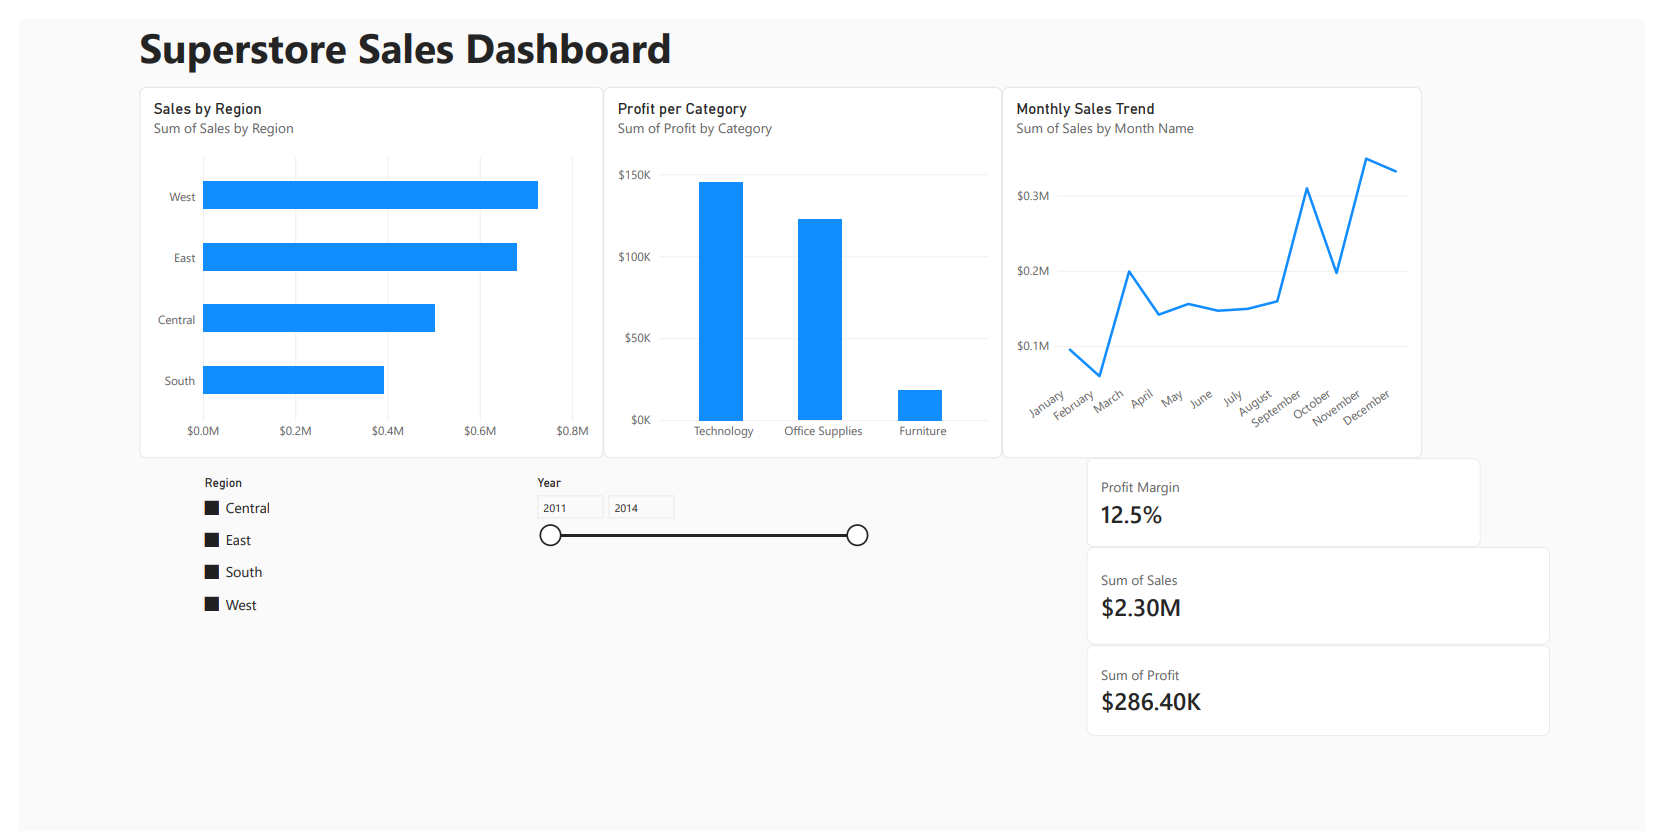

The dashboard page shown, as its layout file describes it:
{"tool":"powerbi","page":{"name":"Page 1","canvas":[1920,1080],"ordinal":0},"visuals":[{"type":"clusteredBarChart","title":"Sales by Region","fields":{"Category":["Superstore.Region"],"Y":["Sum(Superstore.Sales)"]},"box":[142.3,79.8,548,438.9],"z":1},{"type":"clusteredColumnChart","title":"Profit per Category","fields":{"Category":["Superstore.Category"],"Y":["Sum(Superstore.Profit)"]},"box":[690.3,79.8,470.8,438.9],"z":2},{"type":"lineChart","title":"Monthly Sales Trend","fields":{"Category":["Superstore.Month Name"],"Y":["Sum(Superstore.Sales)"]},"box":[1161.1,79.8,496.1,438.9],"z":3},{"type":"slicer","fields":{"Values":["Superstore.Year"]},"box":[604,540,401.7,323.2],"z":4},{"type":"slicer","fields":{"Values":["Superstore.Region"]},"box":[211.5,540,409.7,323.2],"z":6},{"type":"cardVisual","fields":{"Data":["Superstore.Profit Margin"]},"box":[1260.9,518.7,465.5,105.1],"z":7},{"type":"cardVisual","fields":{"Data":["Sum(Superstore.Sales)"]},"box":[1260.9,623.8,548,115.7],"z":8},{"type":"cardVisual","fields":{"Data":["Sum(Superstore.Profit)"]},"box":[1260.9,739.5,548,107.7],"z":9},{"type":"textbox","box":[142.3,0,771.4,63.8],"z":10}]}

Visuals, with their boxes on the page's 1920x1080 design canvas (x1, y1, x2, y2). These are canvas units, not pixel positions in the 1664x831 screenshot, which may show the page scaled, cropped or inside an application window:
"Sales by Region" clusteredBarChart: x1=142, y1=80, x2=690, y2=519
"Profit per Category" clusteredColumnChart: x1=690, y1=80, x2=1161, y2=519
"Monthly Sales Trend" lineChart: x1=1161, y1=80, x2=1657, y2=519
slicer - Superstore.Year: x1=604, y1=540, x2=1006, y2=863
slicer - Superstore.Region: x1=212, y1=540, x2=621, y2=863
cardVisual - Superstore.Profit Margin: x1=1261, y1=519, x2=1726, y2=624
cardVisual - Sum(Superstore.Sales): x1=1261, y1=624, x2=1809, y2=740
cardVisual - Sum(Superstore.Profit): x1=1261, y1=740, x2=1809, y2=847
textbox: x1=142, y1=0, x2=914, y2=64
